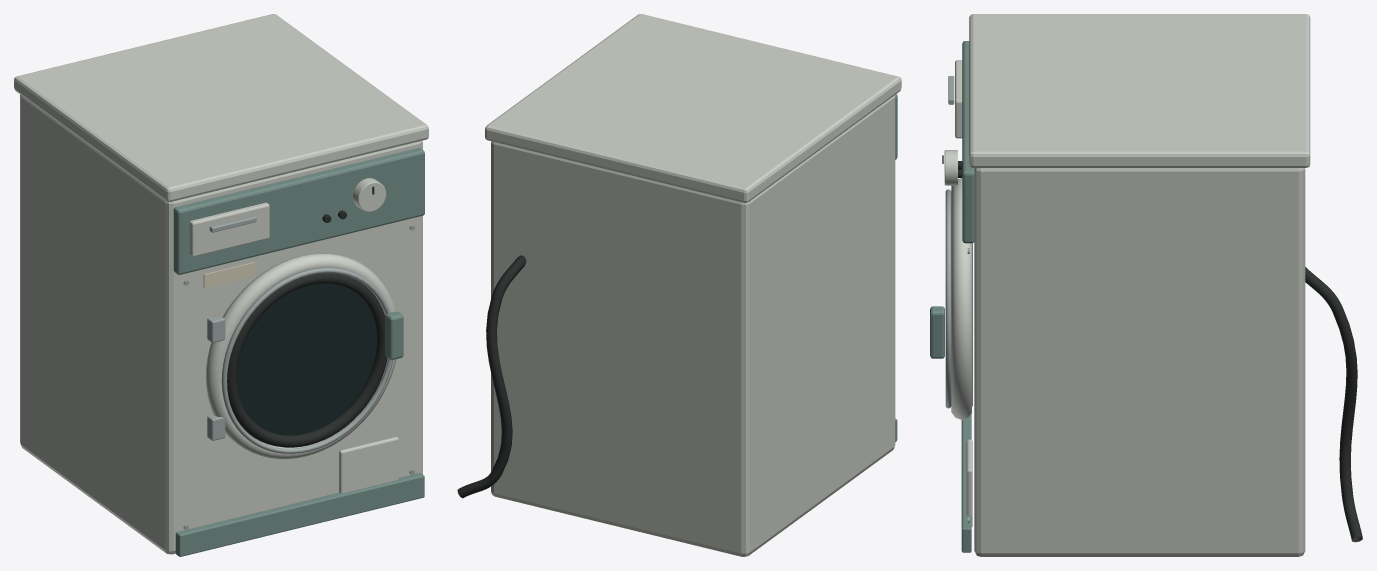
The model's file is washer_finish.glb.
The picture shows the model from 3 angles, left to right: view 1: azimuth 30°, elevation 25°; view 2: azimuth 150°, elevation 25°; view 3: azimuth 270°, elevation 25°; orthographic projection. The views are drawn at different scales.
Parts seen in each view (by area): view 1: washer_finish_搪瓷_灰米白, washer_finish_旧绿漆, washer_finish_玻璃内暗部, washer_finish_橡胶, washer_finish_不锈钢, washer_finish_泛黄铭牌; view 2: washer_finish_搪瓷_灰米白, washer_finish_橡胶; view 3: washer_finish_搪瓷_灰米白, washer_finish_旧绿漆, washer_finish_橡胶, washer_finish_不锈钢.
Part boxes in pixels (bbox=[...]): washer_finish_搪瓷_灰米白: bbox=[14, 14, 428, 554]; washer_finish_旧绿漆: bbox=[173, 148, 424, 556]; washer_finish_玻璃内暗部: bbox=[236, 283, 376, 435]; washer_finish_橡胶: bbox=[227, 186, 387, 447]; washer_finish_不锈钢: bbox=[183, 216, 414, 530]; washer_finish_泛黄铭牌: bbox=[203, 262, 254, 288]; washer_finish_搪瓷_灰米白: bbox=[485, 14, 901, 556]; washer_finish_橡胶: bbox=[457, 255, 526, 498]; washer_finish_搪瓷_灰米白: bbox=[944, 14, 1310, 556]; washer_finish_旧绿漆: bbox=[930, 41, 974, 552]; washer_finish_橡胶: bbox=[942, 155, 1362, 542]; washer_finish_不锈钢: bbox=[945, 76, 969, 522].
Bounding box in the file's own units: 0.6844 × 0.92 × 0.8749.
